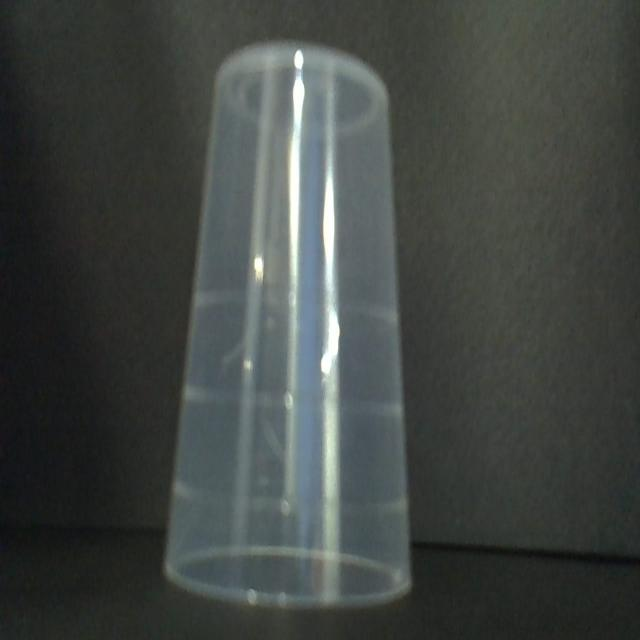cup: (161, 38, 425, 614)
